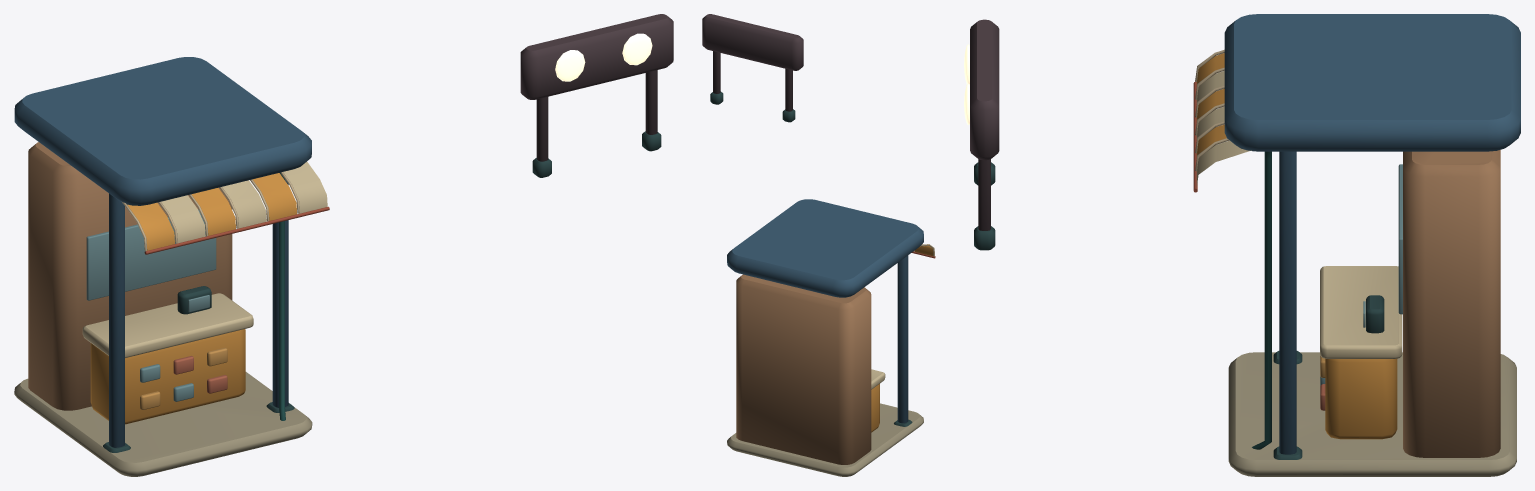
The model's file is alpine_restaurant_4.glb.
3 views of the same model, side by side, from view 1: azimuth 30°, elevation 25°; view 2: azimuth 150°, elevation 25°; view 3: azimuth 270°, elevation 25° (orthographic). The views are drawn at different scales.
Parts seen in each view (by area): view 1: Restaurant4; view 2: Restaurant4; view 3: Restaurant4.
Boxes of the visible parts, x1,y1,x2,y2 form: Restaurant4: (14, 14, 673, 476); Restaurant4: (702, 14, 935, 476); Restaurant4: (964, 14, 1520, 476).
Size of the model in its own units: 5.28 by 4.95 by 4.79.
